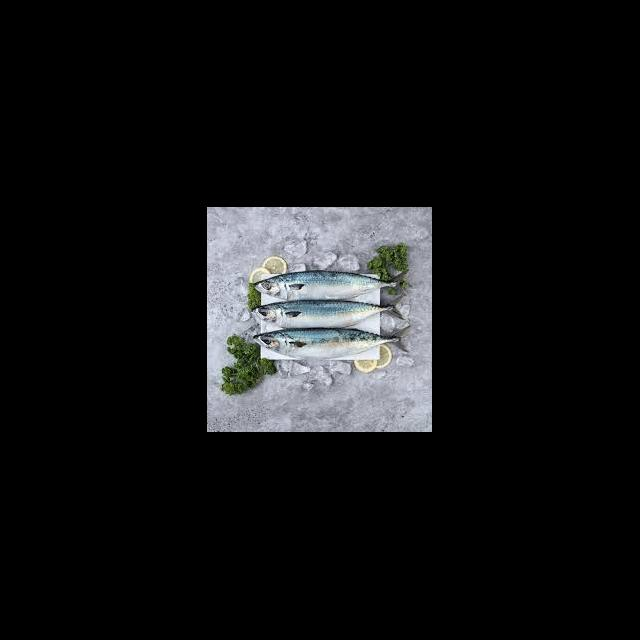fish: (253, 295, 406, 329), (256, 327, 409, 359), (256, 270, 408, 302)
